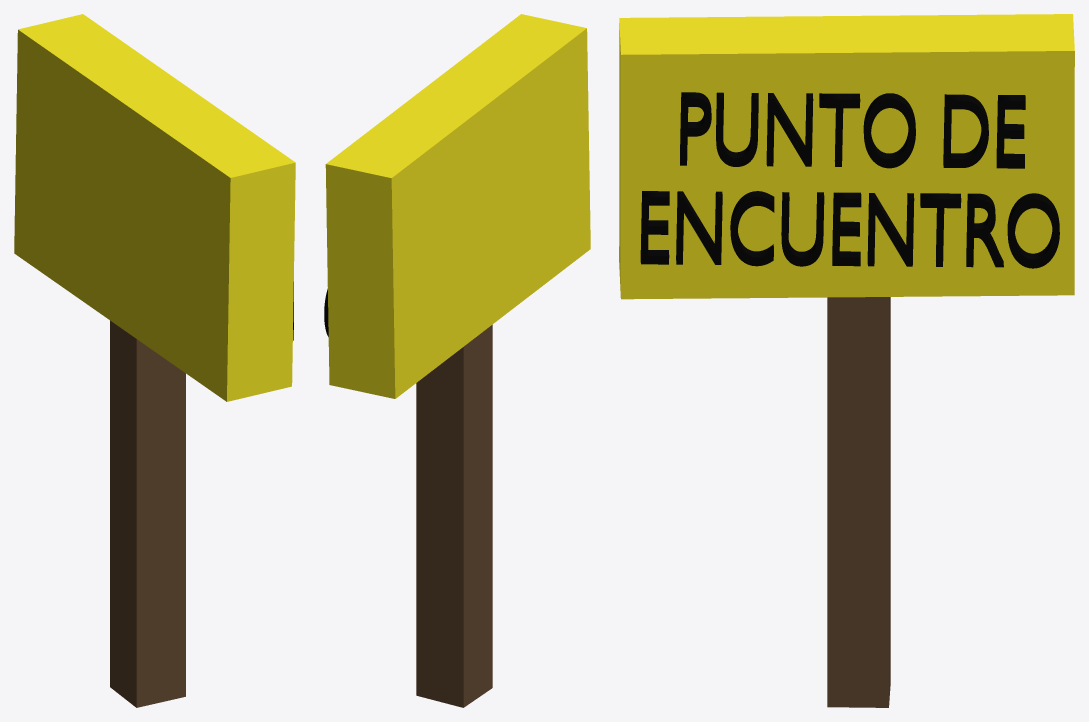
File: PuntoDeEncuentro.glb
3 renders of one model, left to right at view 1: azimuth 30°, elevation 25°; view 2: azimuth 150°, elevation 25°; view 3: azimuth 270°, elevation 25°, orthographic. The views are drawn at different scales.
Visible parts, largest first — view 1: Cubo.007, Cubo.001; view 2: Cubo.007, Cubo.001; view 3: Cubo.007, Cubo.001, Texto.003.
Boxes of the visible parts, left/top/right/bottom form: Cubo.007: left=14, top=14, right=295, bottom=401; Cubo.001: left=110, top=320, right=185, bottom=707; Cubo.007: left=325, top=14, right=590, bottom=398; Cubo.001: left=416, top=324, right=492, bottom=707; Cubo.007: left=619, top=14, right=1074, bottom=299; Cubo.001: left=827, top=297, right=890, bottom=707; Texto.003: left=640, top=92, right=1059, bottom=268.
Bounding box in the file's own units: 0.5443 × 3.63 × 2.26.
